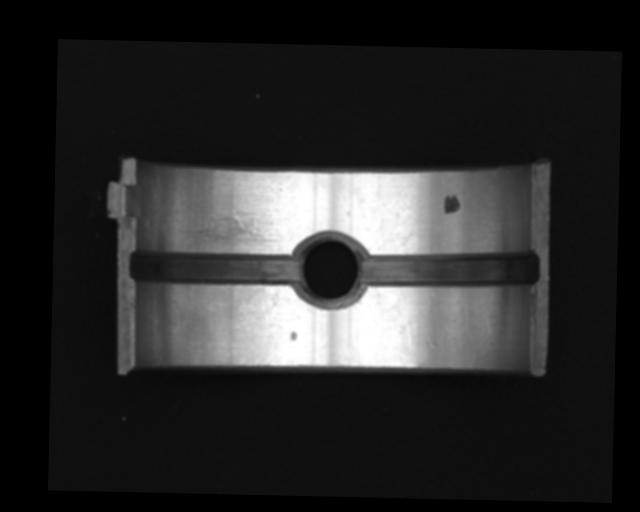blot: (442, 194, 461, 215)
bruise: (289, 330, 297, 342)
gap: (357, 248, 538, 289), (129, 249, 301, 287)
hole: (293, 231, 363, 308)
nick: (396, 285, 414, 345)
scratch: (177, 210, 285, 248)
